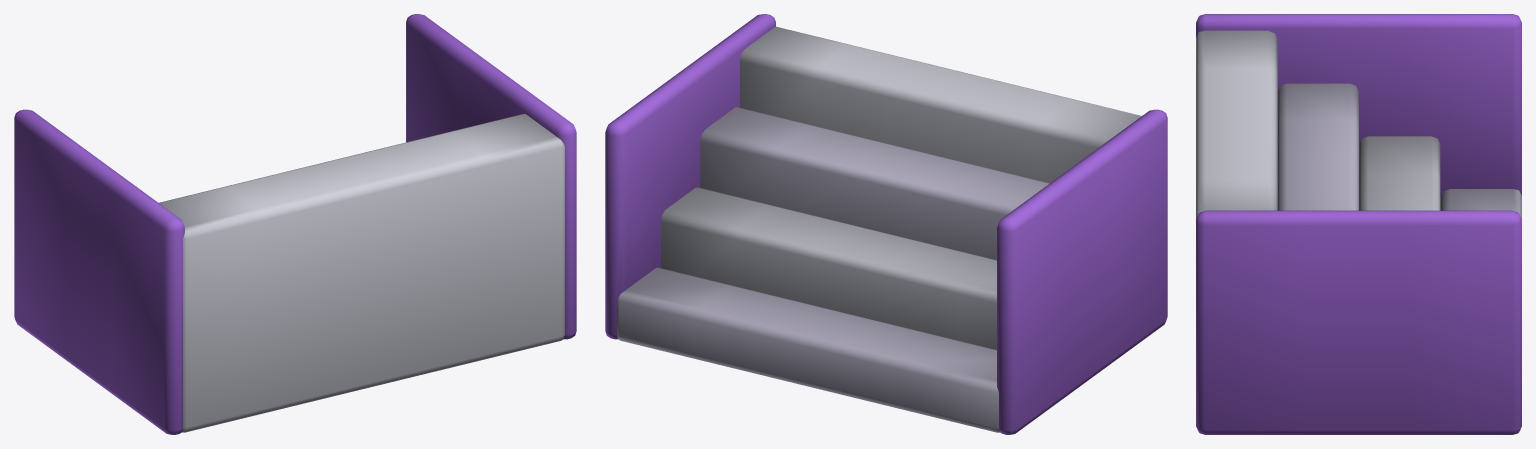
Rendered from bleacher_block.glb.
3 renders of one model, left to right at view 1: azimuth 30°, elevation 25°; view 2: azimuth 150°, elevation 25°; view 3: azimuth 270°, elevation 25°, orthographic. The views are drawn at different scales.
Visible parts, largest first — view 1: bleacher_block; view 2: bleacher_block; view 3: bleacher_block.
Part boxes in pixels (bbox=[...]): bleacher_block: bbox=[14, 14, 576, 434]; bleacher_block: bbox=[605, 14, 1167, 434]; bleacher_block: bbox=[1196, 14, 1521, 434].
Size of the model in its own units: 4.2 by 2.1 by 2.8.
